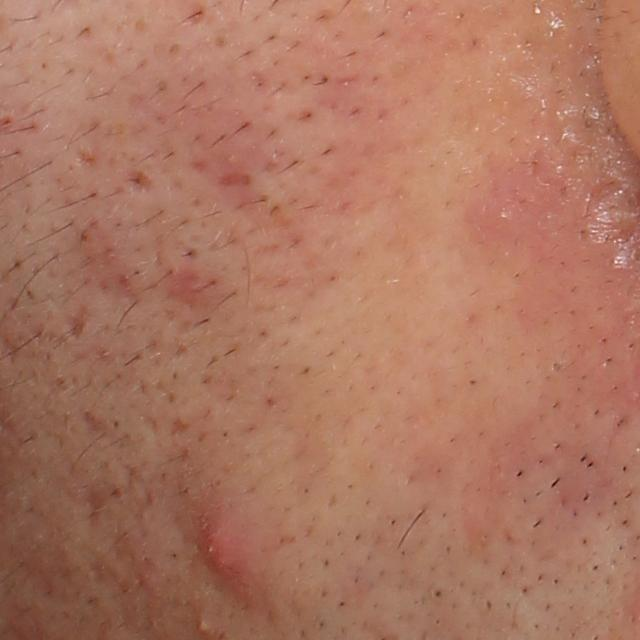atrophic_scar: (160, 265, 214, 310), (84, 484, 107, 527), (119, 168, 154, 196), (65, 304, 90, 342), (217, 171, 252, 188)
papule: (195, 524, 247, 586)
